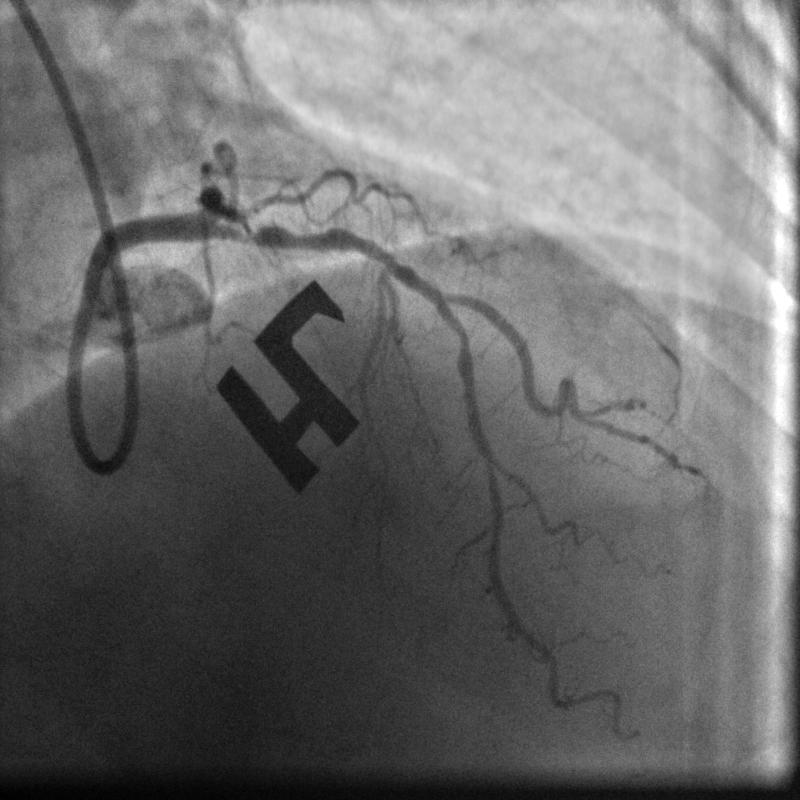Stenosis: (235, 218, 356, 256)
